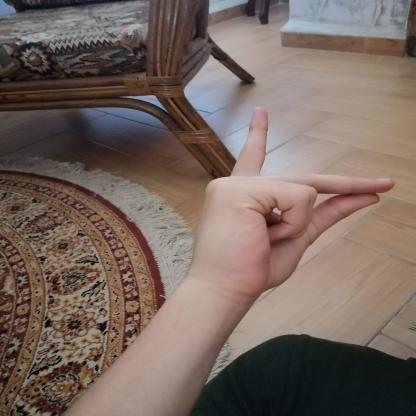TAA: (177, 98, 408, 309)
